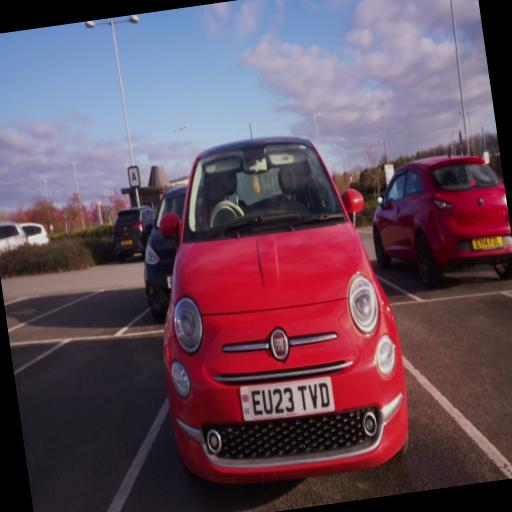numberplates: (240, 378, 334, 421), (472, 235, 504, 252), (167, 276, 172, 288), (122, 239, 132, 245)
